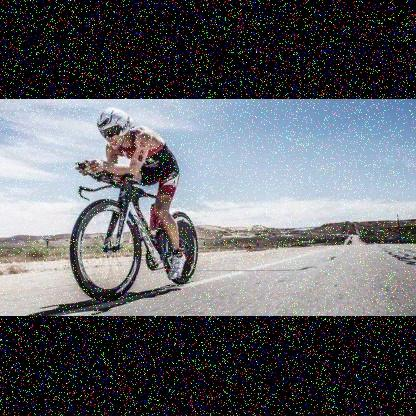Bicycle: (37, 152, 212, 309)
